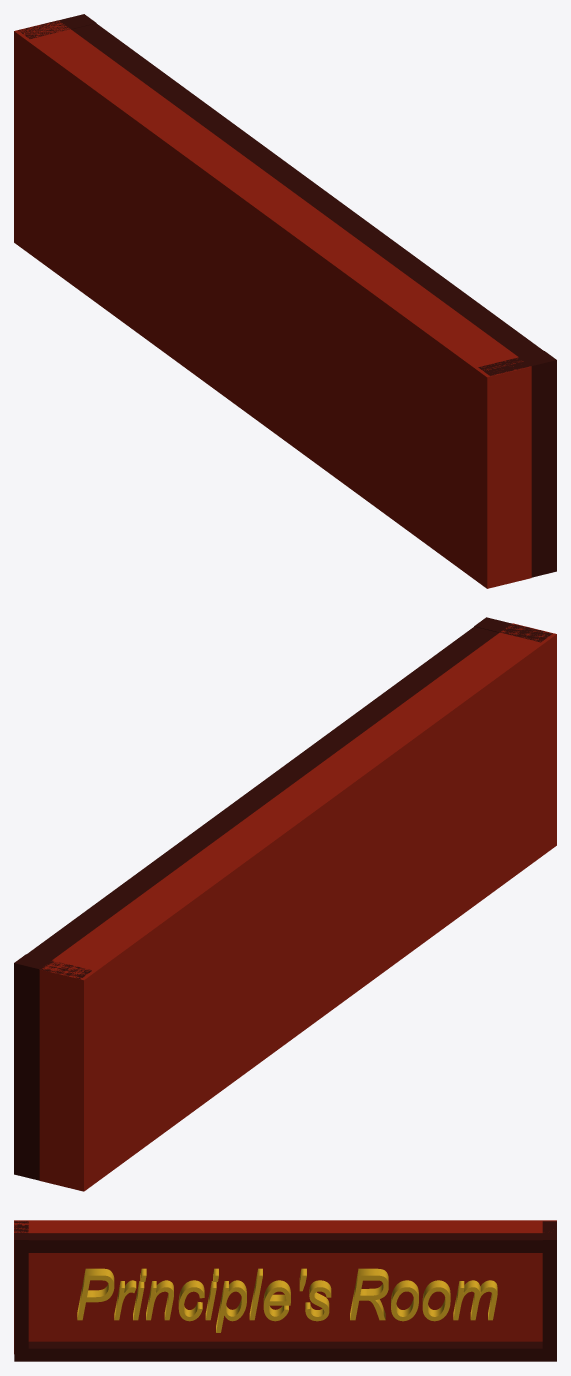
File: PrinciplesRoom.fbx
3 renders of one model, top to bottom at view 1: azimuth 30°, elevation 25°; view 2: azimuth 150°, elevation 25°; view 3: azimuth 270°, elevation 25°, orthographic. The views are drawn at different scales.
Parts seen in each view (by area): view 1: Text; view 2: Text; view 3: Text.
Part boxes in pixels (left/top/right/bottom): Text: left=14, top=14, right=556, bottom=588; Text: left=14, top=617, right=556, bottom=1191; Text: left=14, top=1220, right=556, bottom=1361.
Size of the model in its own units: 69.49 by 200 by 811.
